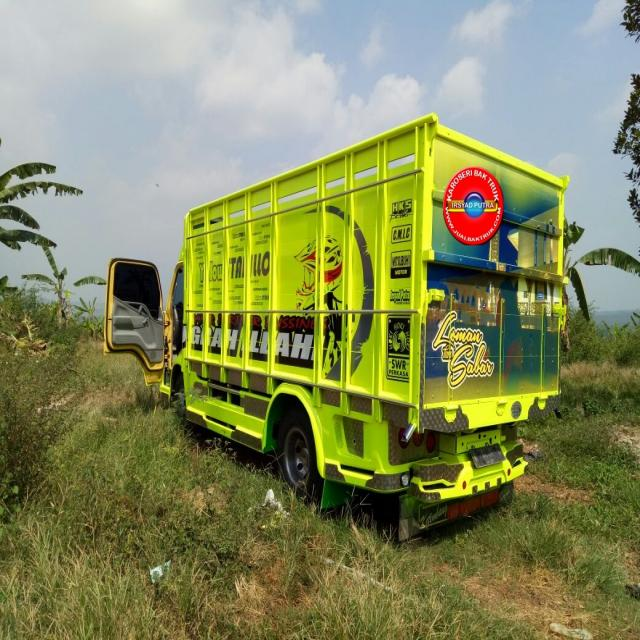truck: (102, 110, 567, 541)
